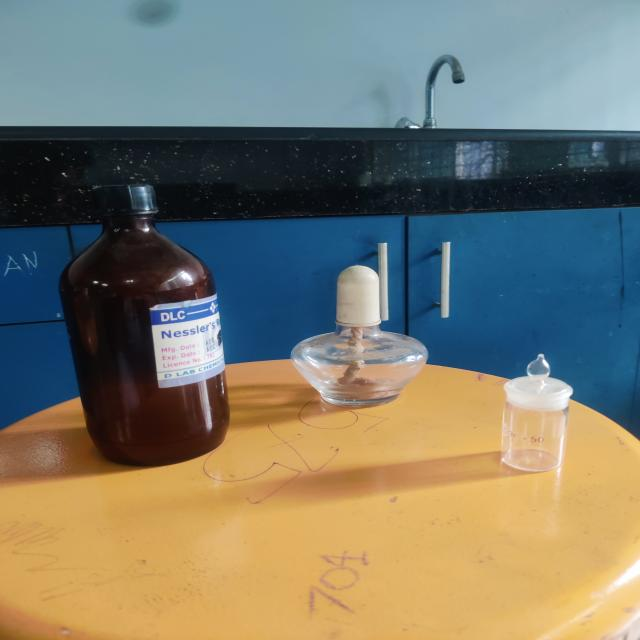Nessler_Reagent_Bottle: (24, 183, 251, 474)
Spirit_Lamp: (274, 261, 439, 414)
Weighing_Bottle: (482, 345, 580, 487)
